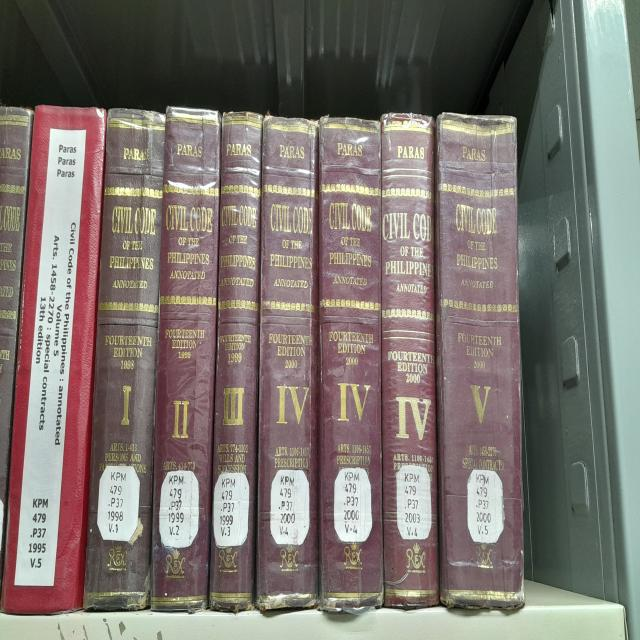book: (2, 105, 107, 613), (436, 113, 524, 607), (84, 110, 165, 610), (150, 108, 221, 611), (319, 116, 384, 611), (256, 116, 319, 609), (380, 114, 439, 608), (209, 112, 262, 610), (0, 106, 34, 505)
